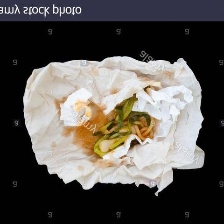tissue: (15, 49, 211, 201)
